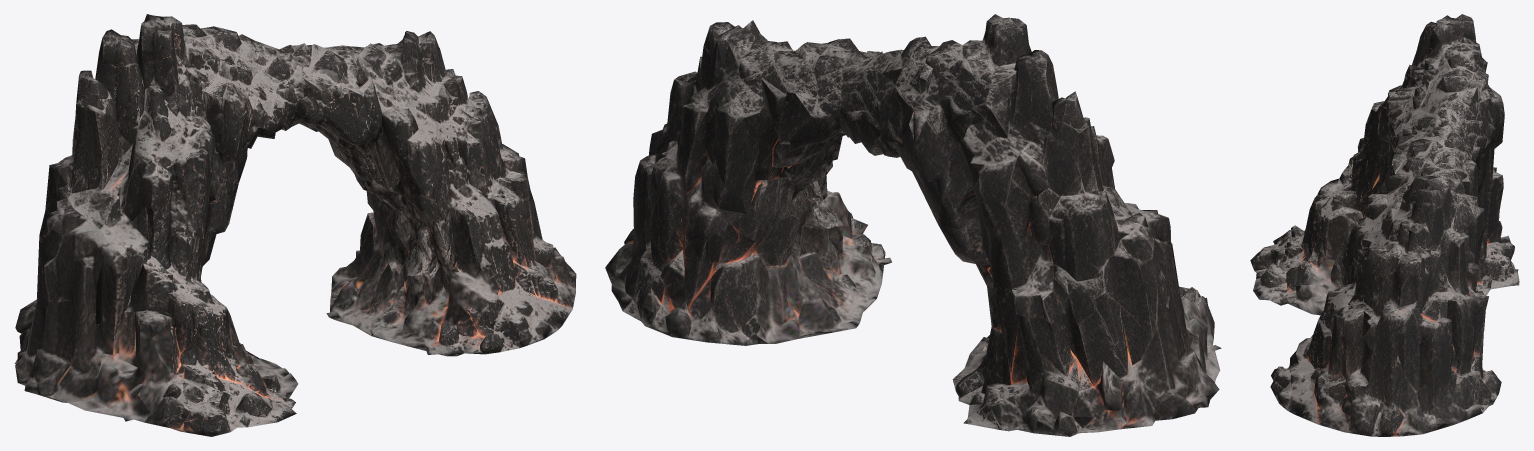
Rendered from lava_arch.glb.
3 renders of one model, left to right at view 1: azimuth 30°, elevation 25°; view 2: azimuth 150°, elevation 25°; view 3: azimuth 270°, elevation 25°, orthographic. The views are drawn at different scales.
Parts seen in each view (by area): view 1: lava_arch; view 2: lava_arch; view 3: lava_arch.
Boxes of the visible parts, box(x1,y1,x2,y2) form: lava_arch: box(14, 14, 576, 436); lava_arch: box(605, 14, 1221, 436); lava_arch: box(1250, 14, 1519, 436).
Bounding box in the file's own units: 188 × 110 × 99.62.
Materials: 1 (1 with a texture image).
